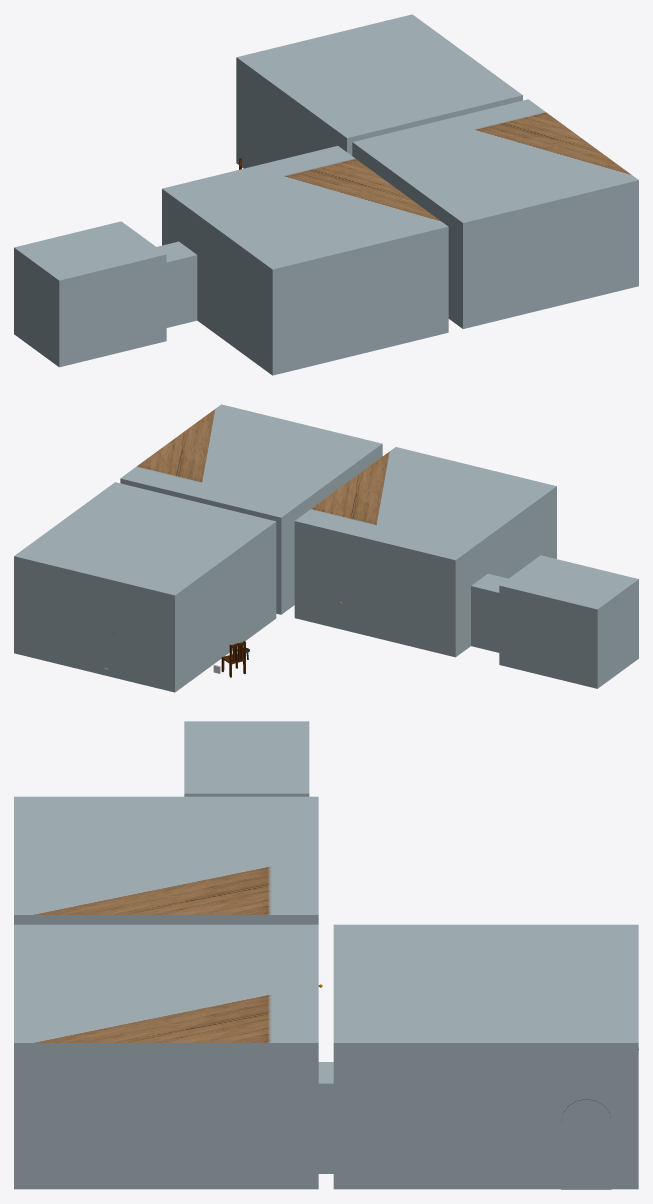
The model's file is first_level_extended_rooms.fbx.
3 renders of one model, top to bottom at view 1: azimuth 30°, elevation 25°; view 2: azimuth 150°, elevation 25°; view 3: azimuth 270°, elevation 25°, orthographic. The views are drawn at different scales.
Parts seen in each view (by area): view 1: Room; view 2: Room, Chair; view 3: Room.
Part boxes in pixels (x1,y1,x2,y2): Room: (14, 14, 638, 375); Room: (14, 404, 638, 692); Chair: (221, 641, 245, 677); Room: (14, 721, 638, 1189).
Size of the model in its own units: 1581 by 309 by 1198.
